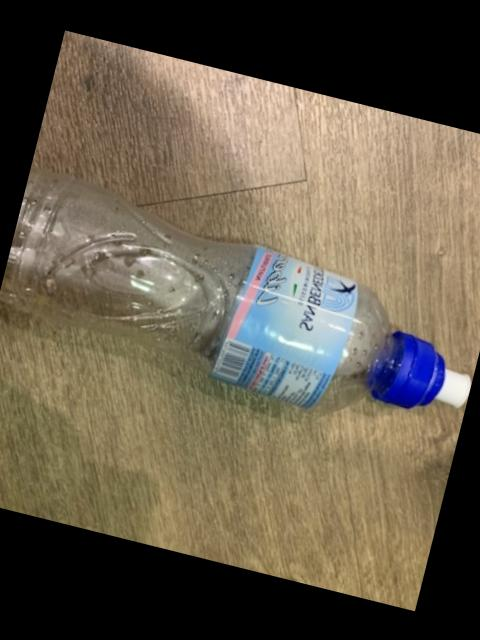plastic: (0, 169, 472, 411)
